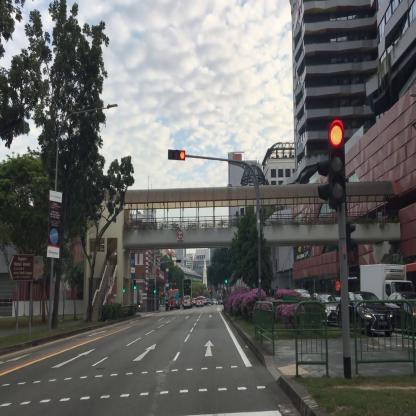red_traffic_light: (327, 121, 346, 202), (168, 147, 185, 160)
